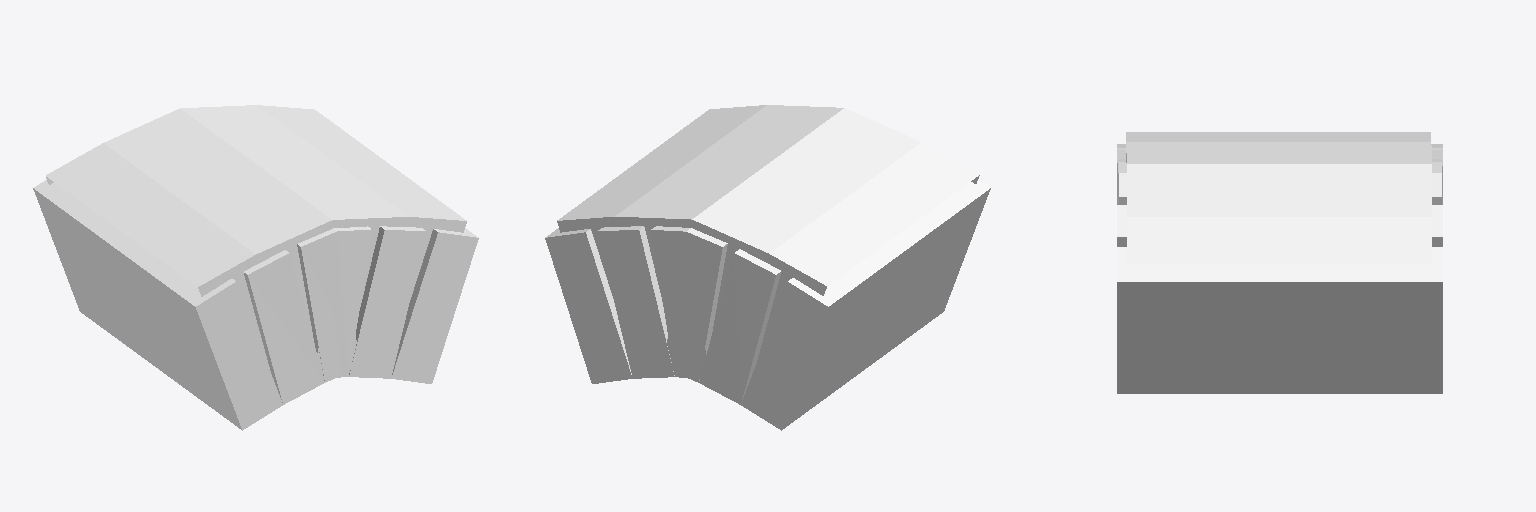
Rendered from lime_mortar_orange_clay_brick_gothic_arch_3_middle.obj.
3 renders of one model, left to right at view 1: azimuth 30°, elevation 25°; view 2: azimuth 150°, elevation 25°; view 3: azimuth 270°, elevation 25°, orthographic.
Parts seen in each view (by area): view 1: middle, mortar_middle; view 2: middle, mortar_middle; view 3: middle, mortar_middle.
Boxes of the visible parts, <box> form: middle: <box>33,180,478,430</box>; mortar_middle: <box>46,105,466,368</box>; middle: <box>545,180,990,430</box>; mortar_middle: <box>557,105,979,360</box>; middle: <box>1117,144,1442,393</box>; mortar_middle: <box>1126,132,1431,263</box>.
Bounding box in the file's own units: 1.08 × 0.672 × 1.07.